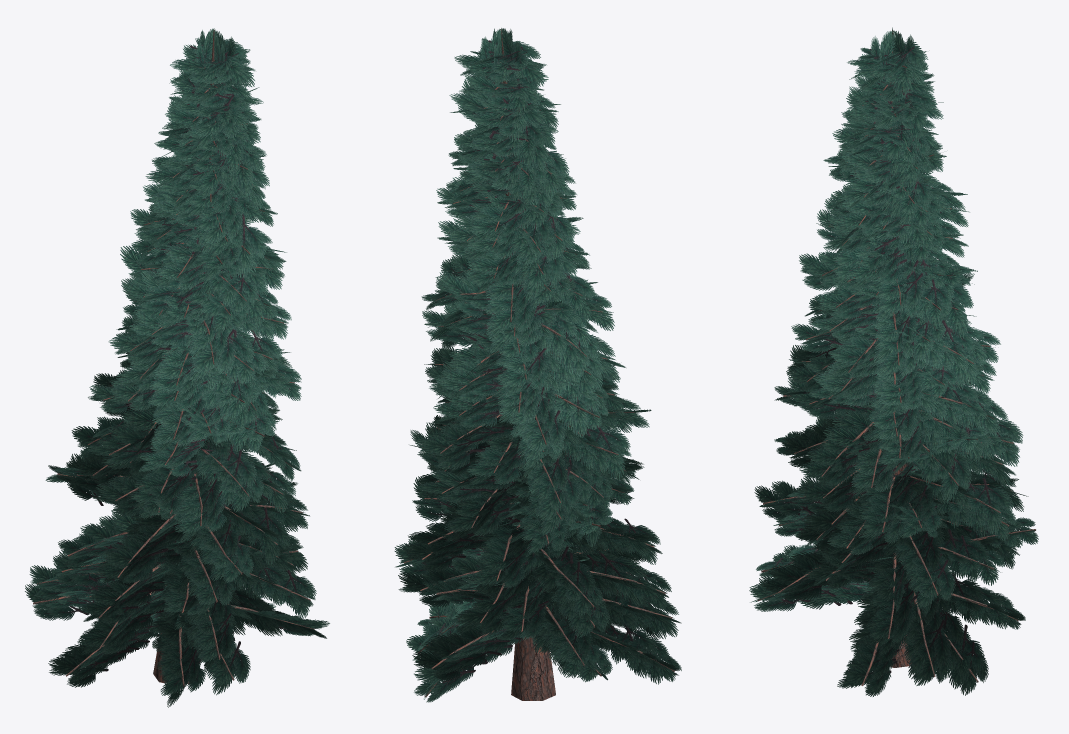
File: nature-green-tall-fir.glb
The picture shows the model from 3 angles, left to right: view 1: azimuth 30°, elevation 25°; view 2: azimuth 150°, elevation 25°; view 3: azimuth 270°, elevation 25°; orthographic projection.
Visible parts, largest first — view 1: nature-green-tall-fir; view 2: nature-green-tall-fir; view 3: nature-green-tall-fir.
Boxes of the visible parts, x1,y1,x2,y2 form: nature-green-tall-fir: [25, 28, 329, 707]; nature-green-tall-fir: [394, 28, 681, 702]; nature-green-tall-fir: [749, 27, 1038, 696].
Bounding box in the file's own units: 6.67 × 14.49 × 6.38.
2 materials, 2 textured.
